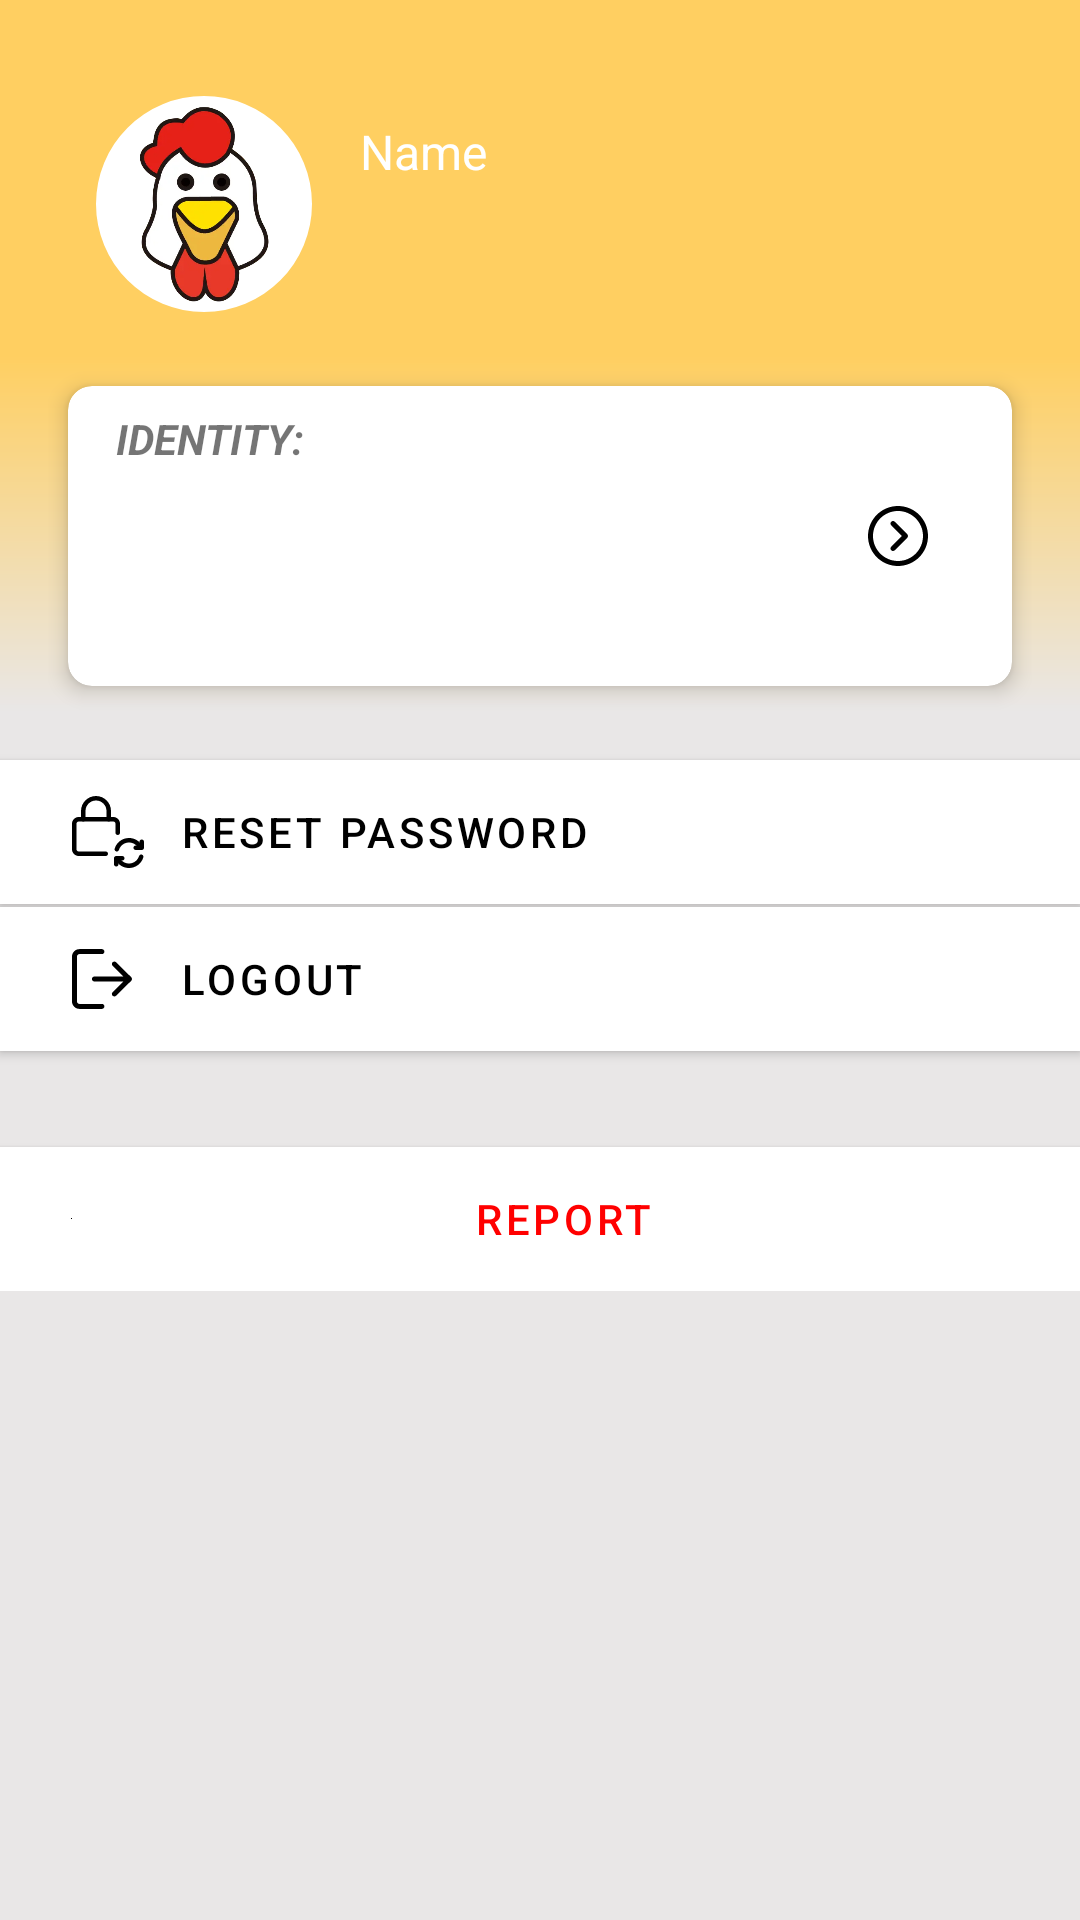

Where icons sit on this 1080 × 1920 app screen, as [left=x1, top=y1, right=x2, bottom=y2]:
next: [left=868, top=506, right=928, bottom=566]
